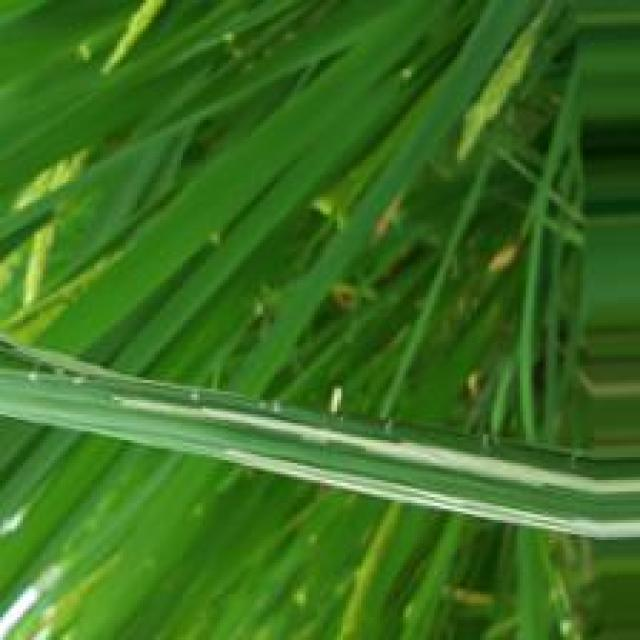Rice_Hispa: (108, 400, 640, 492), (226, 453, 640, 545)
